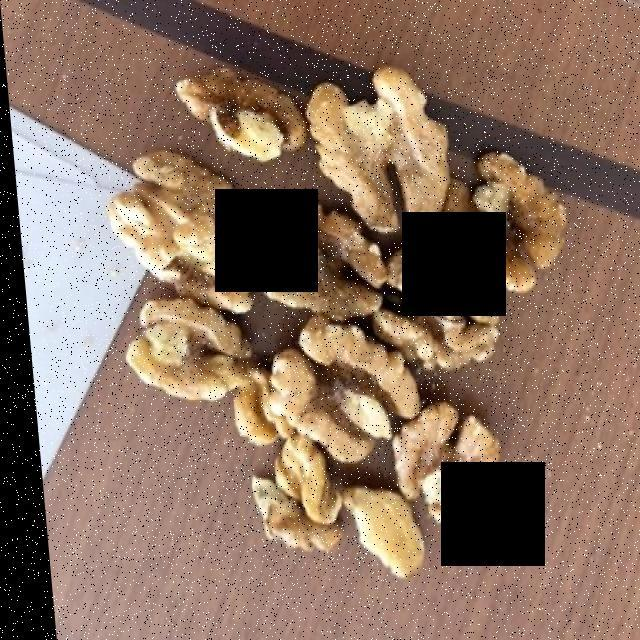walnut: (105, 79, 563, 566)
